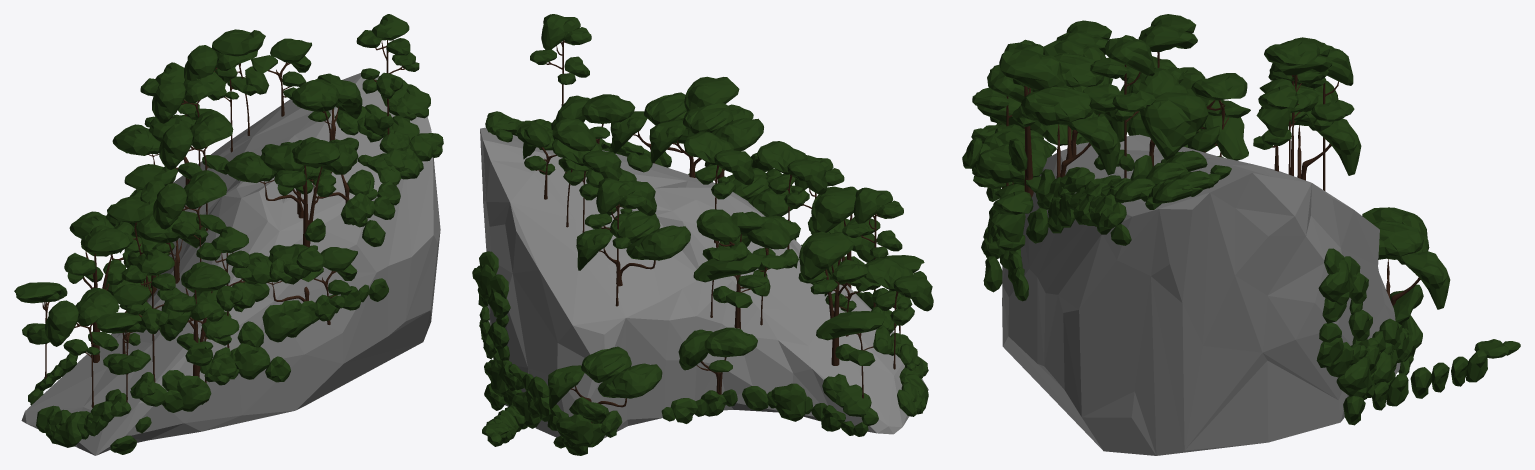
The model's file is SM_cliff_vegetation_01.fbx.
3 renders of one model, left to right at view 1: azimuth 30°, elevation 25°; view 2: azimuth 150°, elevation 25°; view 3: azimuth 270°, elevation 25°, orthographic. The views are drawn at different scales.
Parts seen in each view (by area): view 1: Group32115; view 2: Group32115; view 3: Group32115.
Boxes of the visible parts, <box> form: Group32115: <box>14,14,443,455</box>; Group32115: <box>472,14,933,455</box>; Group32115: <box>962,14,1520,455</box>.
Size of the model in its own units: 2193 by 1677 by 2061.
